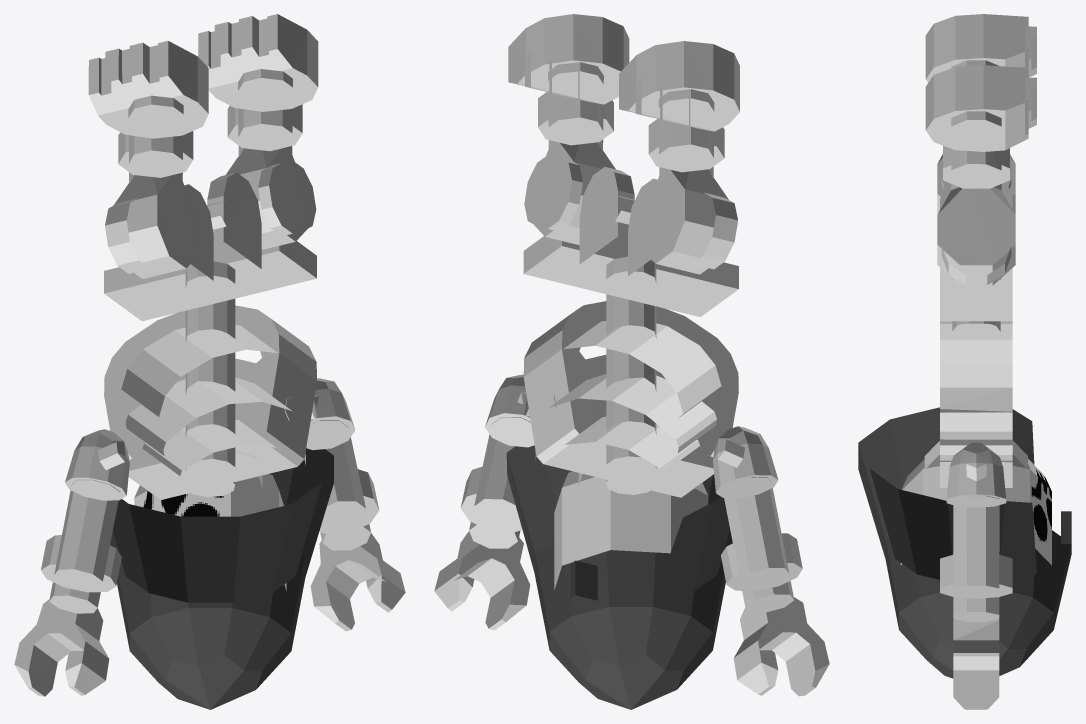
The model's file is minifigskeleton00.glb.
3 renders of one model, left to right at view 1: azimuth 30°, elevation 25°; view 2: azimuth 150°, elevation 25°; view 3: azimuth 270°, elevation 25°, orthographic. The views are drawn at different scales.
Visible parts, largest first — view 1: 027_shape7, 030_shape10, 047_shape16, 016_shape4, 044_shape14, 042_shape12, 035_shape12, 037_shape14, 023_shape4, 014_shape2, 021_shape2; view 2: 027_shape7, 030_shape10, 047_shape16, 016_shape4, 044_shape14, 042_shape12, 035_shape12, 037_shape14, 023_shape4, 014_shape2, 021_shape2; view 3: 027_shape7, 030_shape10, 023_shape4, 037_shape14, 035_shape12, 042_shape12, 047_shape16, 021_shape2, 044_shape14.
Part boxes in pixels (box(x1,y1,x2,y2)): 027_shape7: box(110, 448, 333, 709); 030_shape10: box(97, 261, 318, 499); 047_shape16: box(104, 162, 316, 321); 016_shape4: box(41, 429, 129, 613); 044_shape14: box(114, 95, 198, 278); 042_shape12: box(88, 41, 208, 138); 035_shape12: box(198, 14, 318, 111); 037_shape14: box(226, 69, 307, 249); 023_shape4: box(304, 378, 379, 550); 014_shape2: box(14, 595, 109, 696); 021_shape2: box(310, 533, 405, 631); 027_shape7: box(506, 445, 732, 709); 030_shape10: box(517, 256, 744, 497); 047_shape16: box(523, 156, 738, 316); 016_shape4: box(713, 426, 802, 612); 044_shape14: box(643, 89, 728, 274); 042_shape12: box(619, 41, 739, 131); 035_shape12: box(508, 14, 629, 104); 037_shape14: box(533, 62, 615, 245); 023_shape4: box(460, 374, 536, 548); 014_shape2: box(733, 597, 829, 696); 021_shape2: box(434, 531, 530, 630); 027_shape7: box(858, 407, 1071, 678); 030_shape10: box(940, 279, 1012, 487); 023_shape4: box(940, 442, 1012, 621); 037_shape14: box(937, 111, 1015, 285); 035_shape12: box(925, 65, 1036, 151); 042_shape12: box(925, 14, 1036, 82); 047_shape16: box(940, 179, 1012, 321); 021_shape2: box(953, 619, 999, 709); 044_shape14: box(937, 60, 1015, 213).
Size of the model in its own units: 2.68 by 4.56 by 1.41.
Materials: 5 (1 with a texture image).
